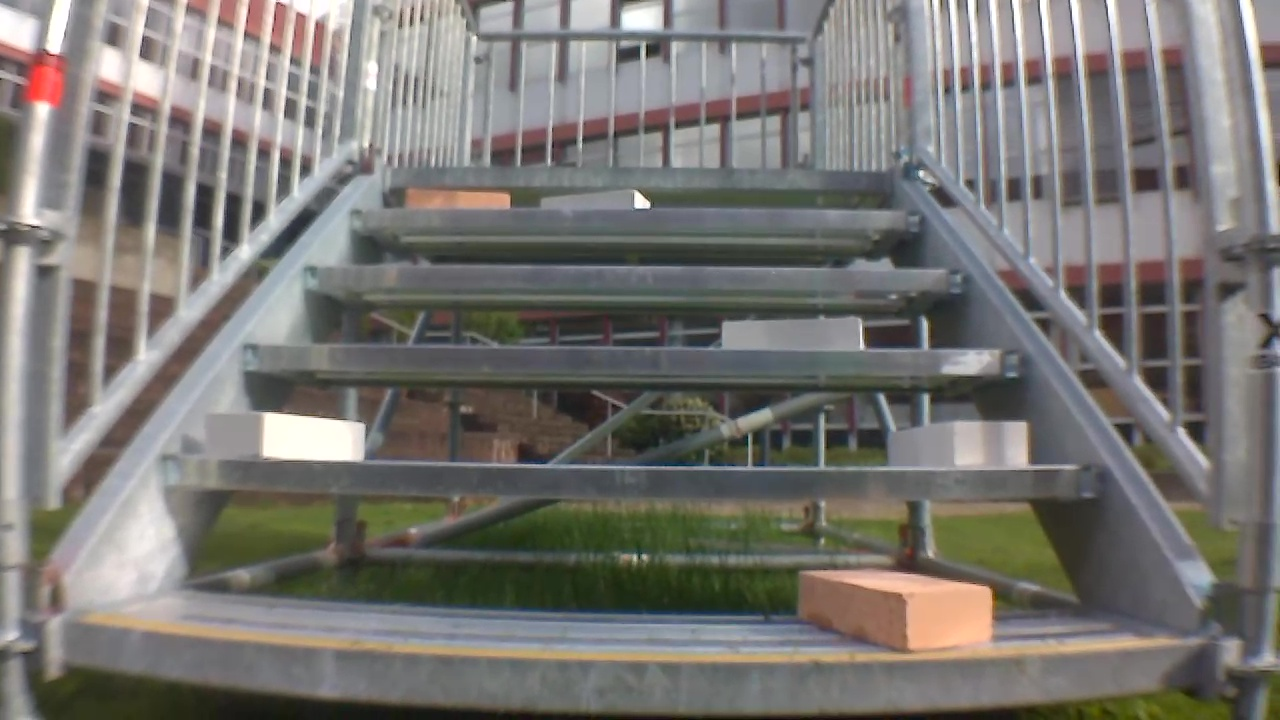brick: (800, 570, 992, 649), (205, 411, 363, 460), (889, 422, 1029, 468), (723, 316, 860, 350), (407, 189, 509, 210), (539, 190, 648, 208)
edge: (64, 619, 1206, 714), (164, 452, 1100, 496), (240, 342, 1024, 375), (308, 266, 970, 289), (353, 210, 924, 233), (385, 167, 897, 187)
stairs: (3, 2, 1268, 716)
steps: (54, 160, 1209, 715)
